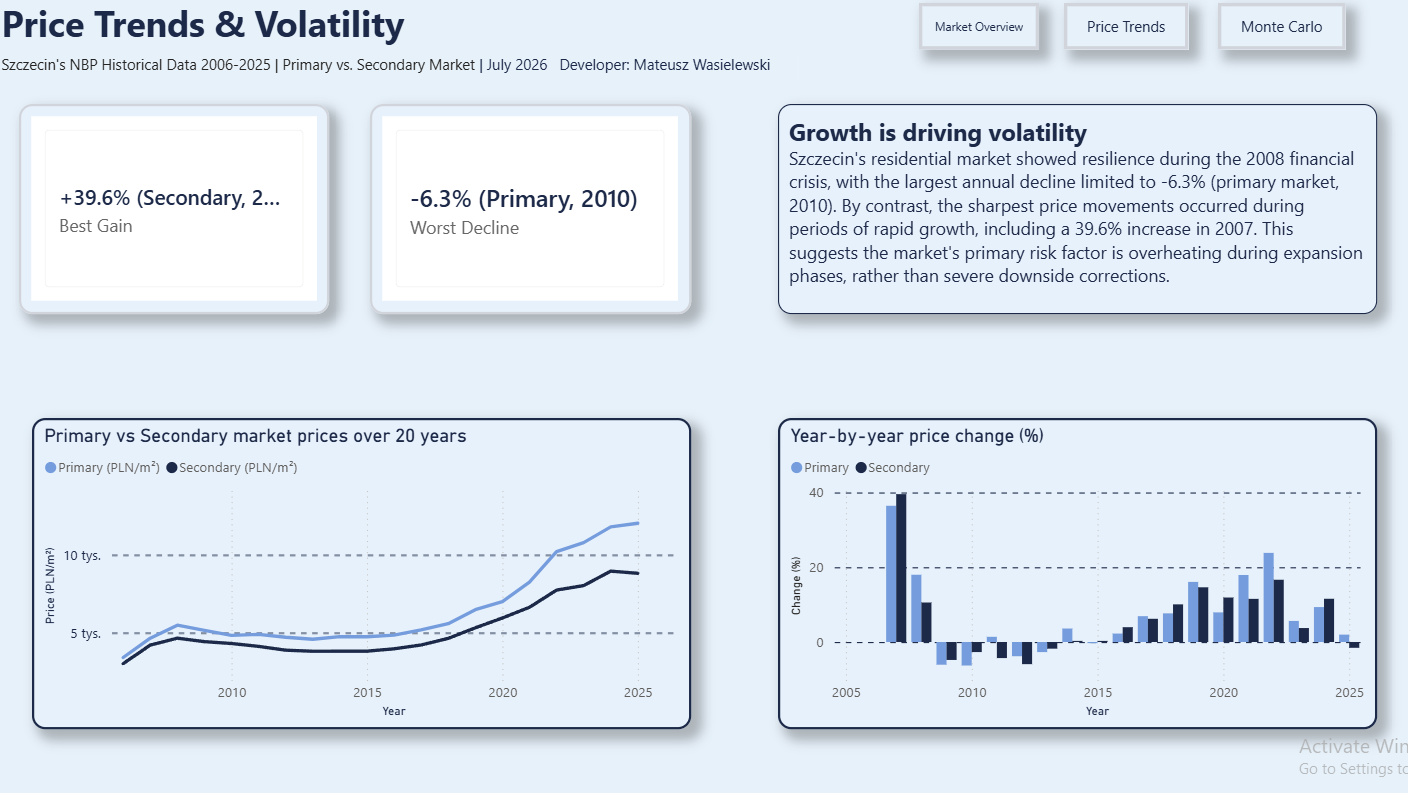

The dashboard page shown, as its layout file describes it:
{"tool":"powerbi","page":{"name":"Price Trends","canvas":[1280,720],"ordinal":1},"visuals":[{"type":"lineChart","title":"Primary vs Secondary market prices over 20 years","fields":{"Category":["NBP History.Rok"],"Y":["Sum(NBP History.Pierwotny (PLN/m2))","Sum(NBP History.Wtórny (PLN/m2))"]},"box":[32.1,382.2,593.3,280.1],"z":0},{"type":"clusteredColumnChart","title":"Year-by-year price change (%)","fields":{"Category":["NBP History.Rok"],"Y":["Sum(NBP History.Pierwotny_Change)","Sum(NBP History.Wtorny_Change)"]},"box":[703.2,382.2,538.8,280.1],"z":1000},{"type":"textbox","box":[0,0,504.8,58.4],"z":2000},{"type":"textbox","box":[0,50.6,720.7,32.1],"z":3000},{"type":"cardVisual","fields":{"Data":["NBP History.Best Gain"]},"box":[20.4,100.2,279.1,188.7],"z":4000},{"type":"cardVisual","fields":{"Data":["NBP History.Worst Decline"]},"box":[336.5,100.2,288.9,188.7],"z":5000},{"type":"textbox","box":[703.2,100.2,538.8,188.7],"z":6000},{"type":"actionButton","box":[830.6,8.8,108,41.8],"z":6001},{"type":"actionButton","box":[961,8.8,111.9,41.8],"z":6002},{"type":"actionButton","box":[1099.1,8.8,114.8,41.8],"z":6003}]}

Visuals, with their boxes in screenshot pixels (x1, y1, x2, y2), scaled from the page's 1280x720 canvas onto the 1408x793 screenshot:
"Primary vs Secondary market prices over 20 years" lineChart: (35, 421, 688, 729)
"Year-by-year price change (%)" clusteredColumnChart: (774, 421, 1366, 729)
textbox: (0, 0, 555, 64)
textbox: (0, 56, 793, 91)
cardVisual - NBP History.Best Gain: (22, 110, 329, 318)
cardVisual - NBP History.Worst Decline: (370, 110, 688, 318)
textbox: (774, 110, 1366, 318)
actionButton: (914, 10, 1032, 56)
actionButton: (1057, 10, 1180, 56)
actionButton: (1209, 10, 1335, 56)
